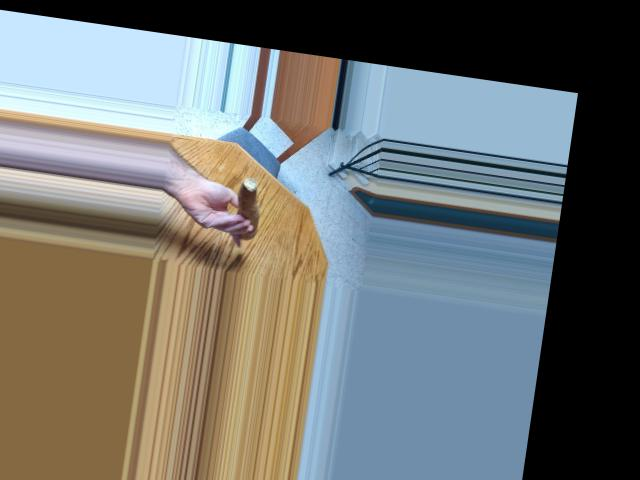sweet_potato: (226, 178, 267, 234)
